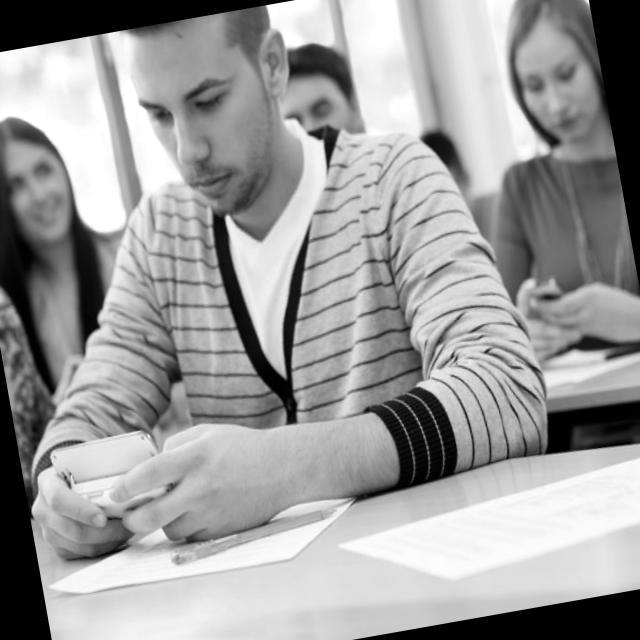phone: (48, 425, 174, 528), (531, 275, 566, 302)
